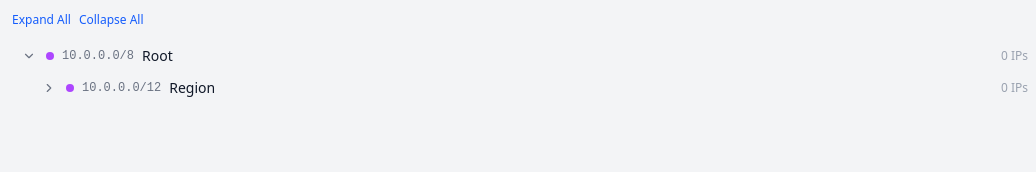
PoolTree global expand controls › Collapse All still collapses after an Expand All
Click the button "Expand All". click: (41, 20)
box: [12, 12, 71, 28]
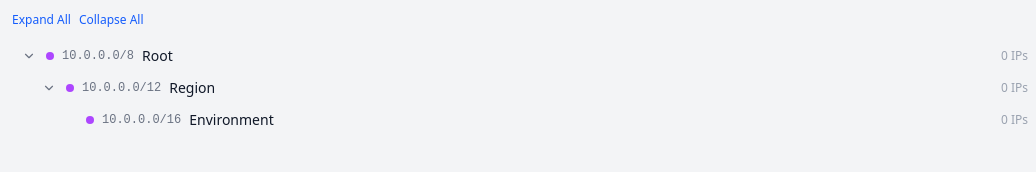
Expected: the text "Environment" is shown, [189, 110, 274, 130]
Click the button "Collapse All". click: (111, 20)
box: [79, 12, 144, 28]
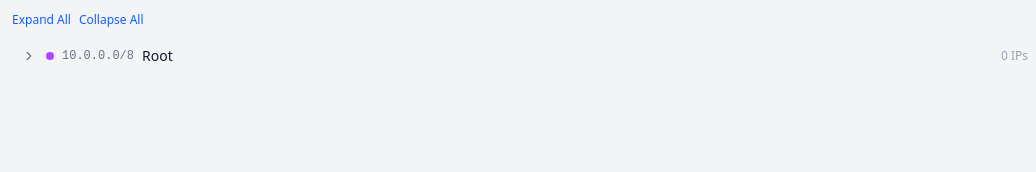
Expected: the text "Region" is gone
